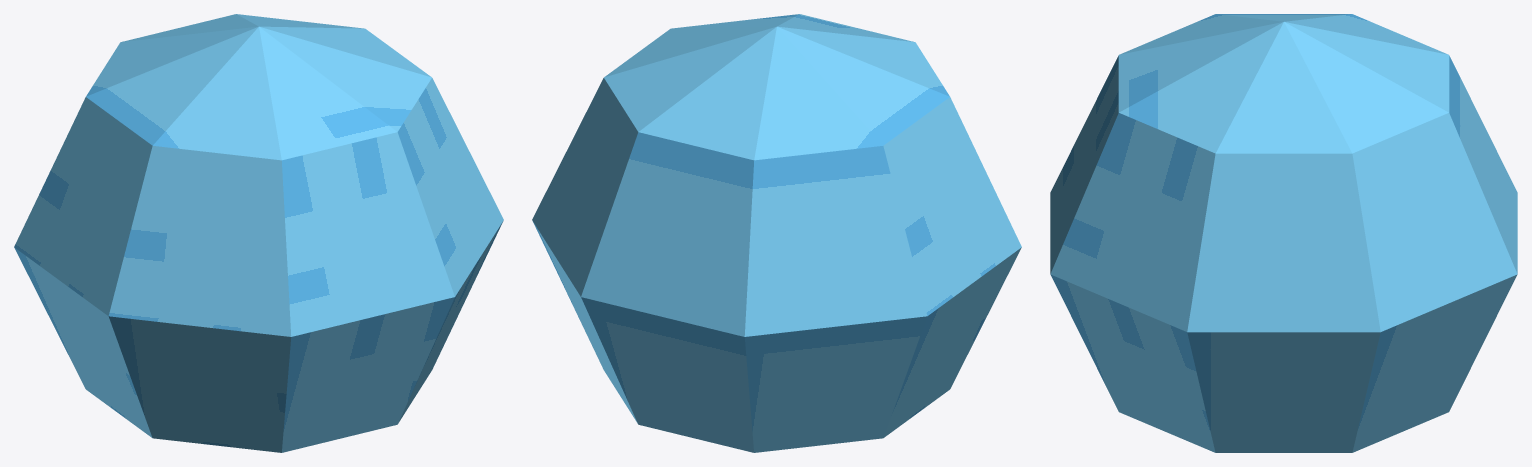
Rendered from Full_Moon2.fbx.
3 views of the same model, side by side, from view 1: azimuth 30°, elevation 25°; view 2: azimuth 150°, elevation 25°; view 3: azimuth 270°, elevation 25° (orthographic). The views are drawn at different scales.
Visible parts, largest first — view 1: MoonSize2; view 2: MoonSize2; view 3: MoonSize2.
Part boxes in pixels (x1,y1,x2,y2): MoonSize2: (14,14,503,452); MoonSize2: (532,14,1021,452); MoonSize2: (1050,14,1517,452).
Size of the model in its own units: 100 by 100 by 100.
